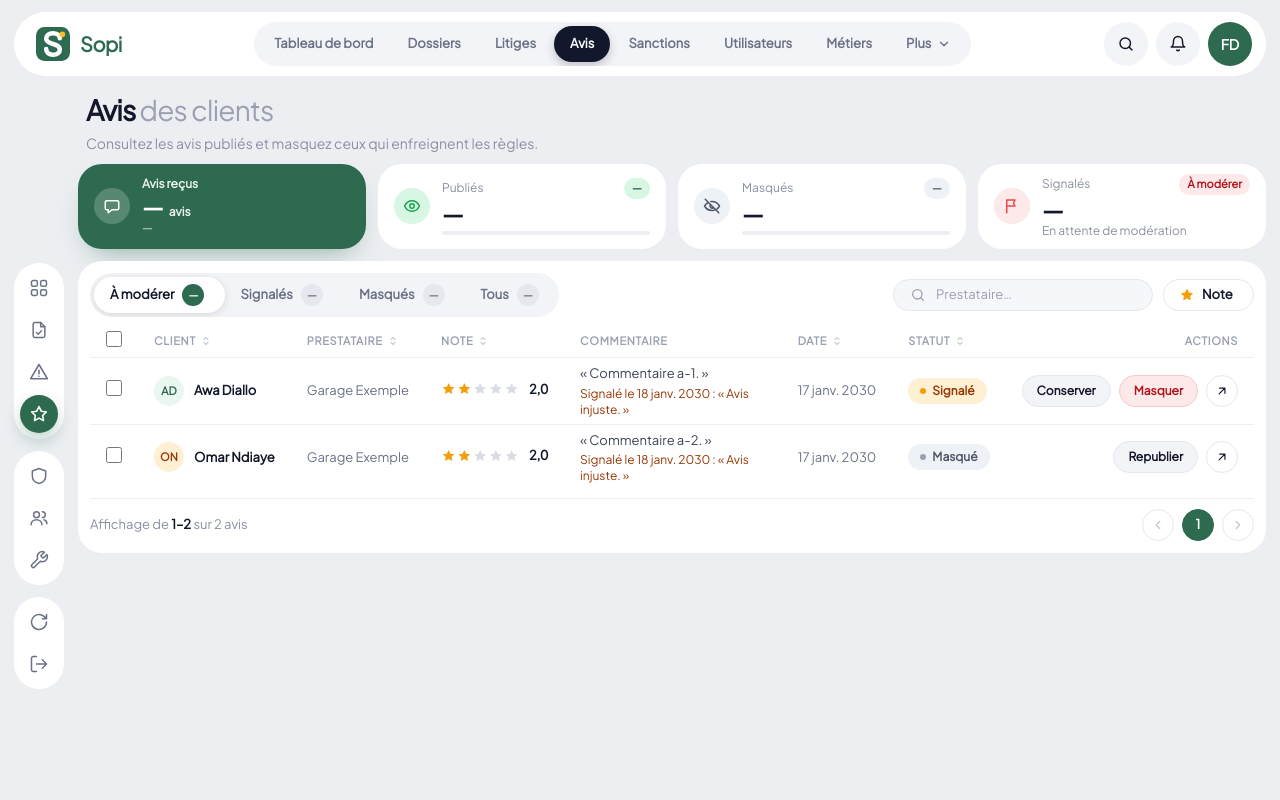
it: Avis : masquer et republier en groupe › une sélection mixte propose Masquer pour les publiés et Republier pour les masqués
Expected: the table named "Liste des avis" is shown, [90,324,1254,490]
Click the checkbox named "Tout sélectionner" at (114, 338), box [106,330,122,346]
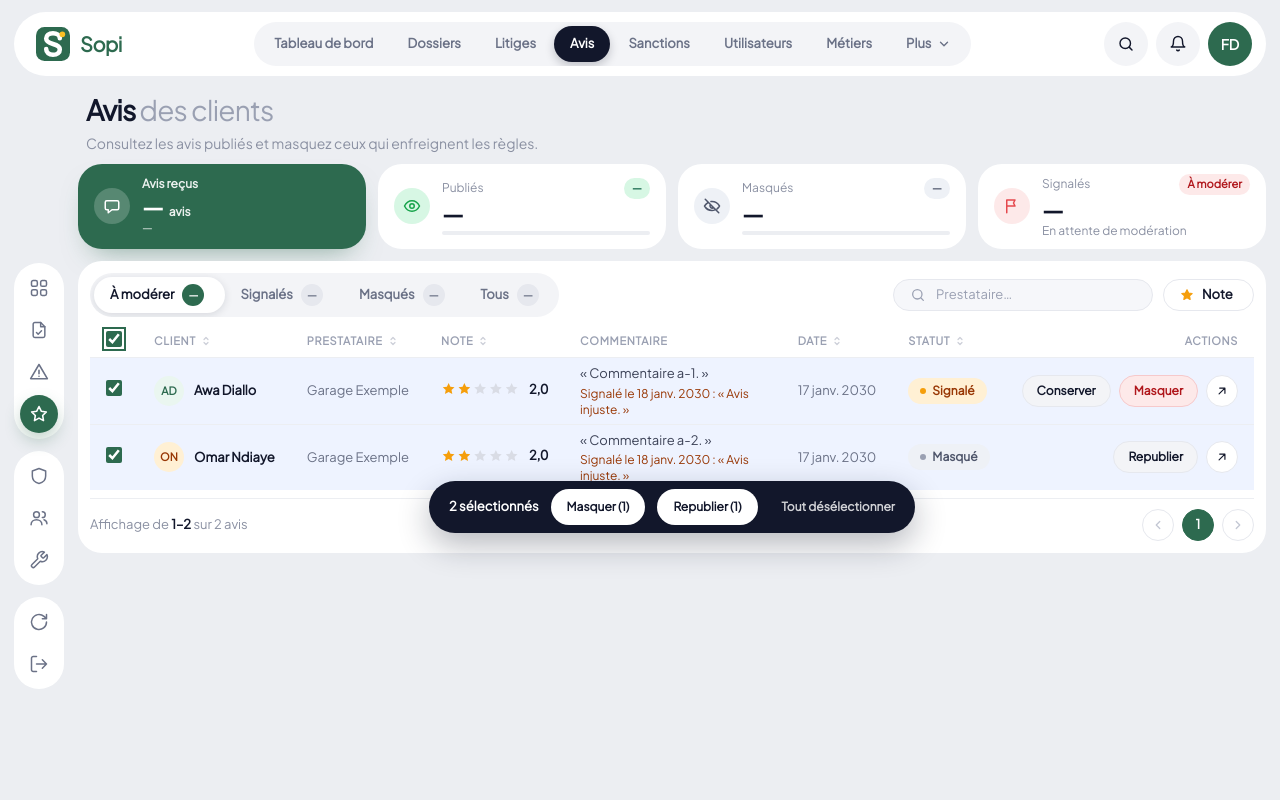
Now the button "Masquer (1)" is enabled, box [550,489,645,525]
Click the button "Republier (1)" at (707, 507), box [657,489,758,525]
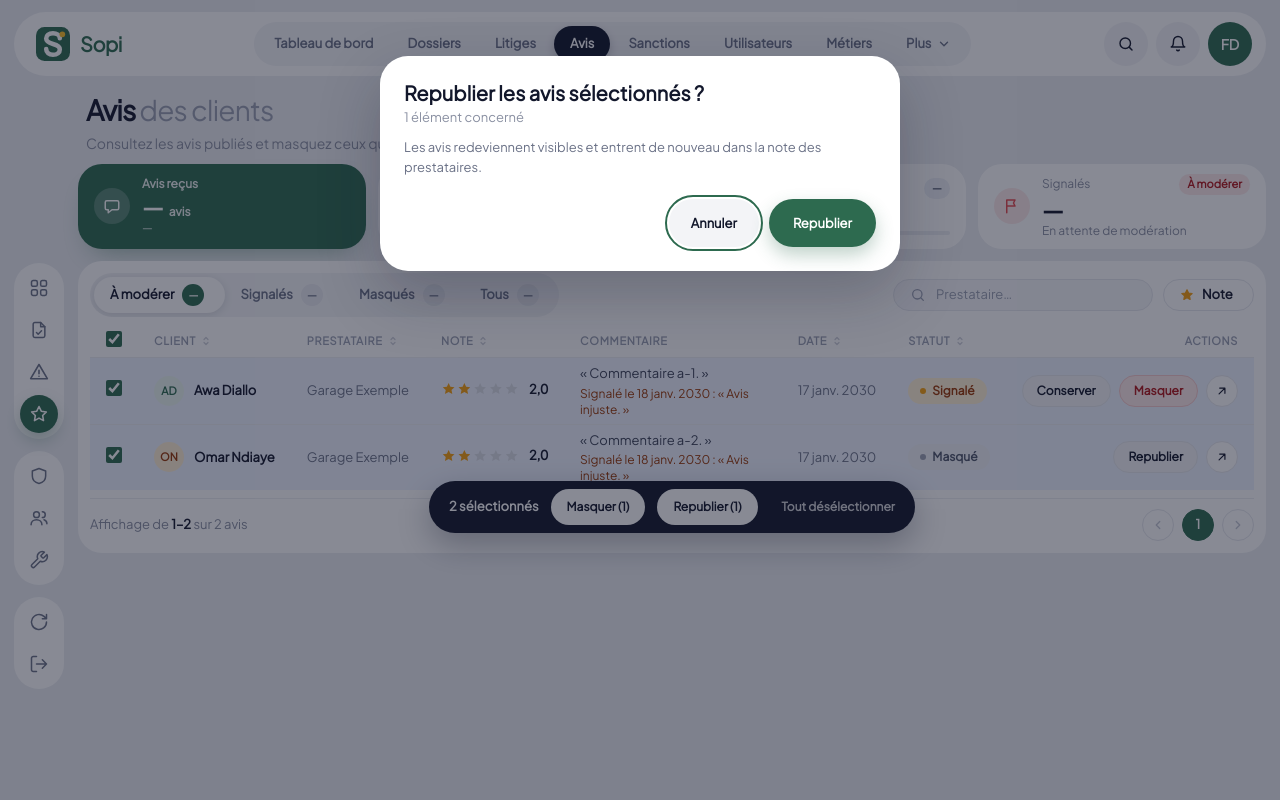
Now the text "1 élément concerné" is shown, box [404,109,524,125]
Click the button "Republier" at (822, 223), box [769,199,876,247]
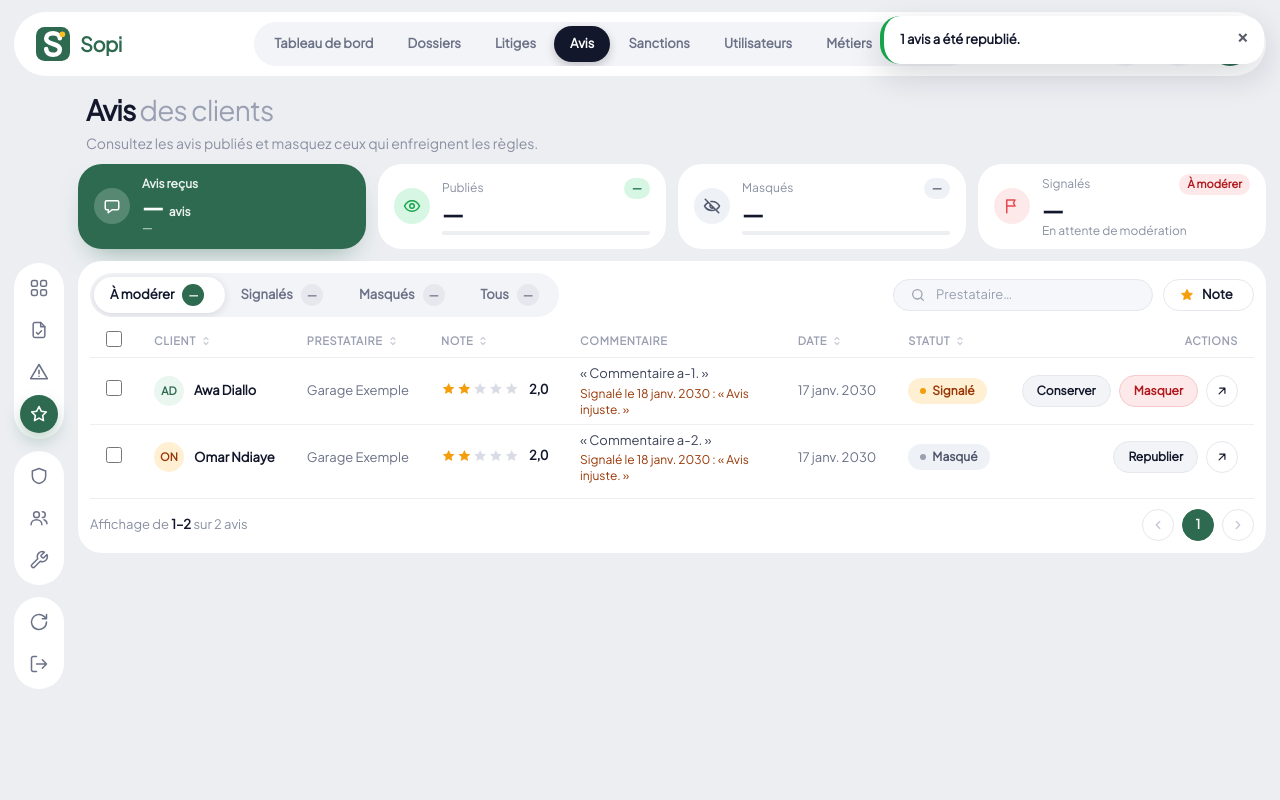
Now the text "1 avis a été republié." is shown, box [900,31,1020,47]
